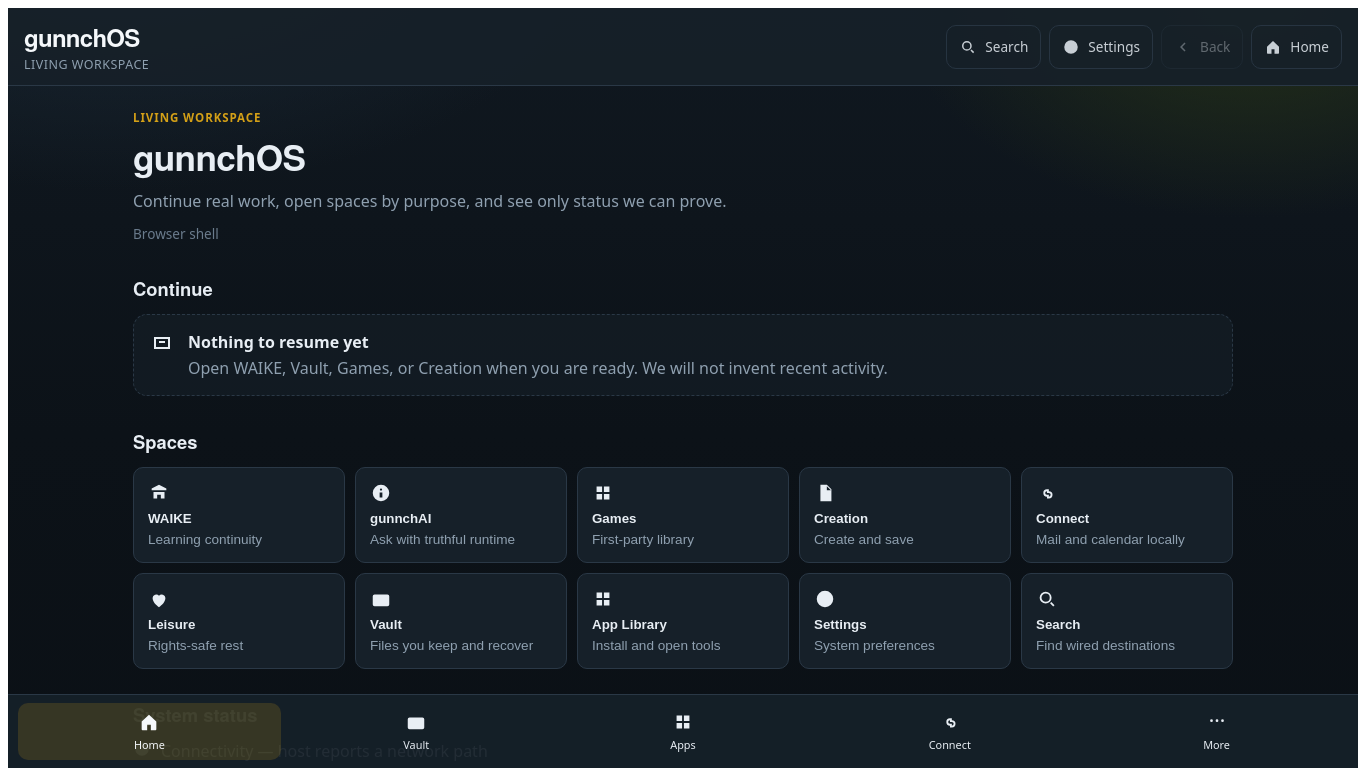
it: gunnch_shell production authority › opens More sheet for Assist and Care
The image size is (1366, 768).
Click the button "More" at coordinates (1217, 732), box x1=1085 y1=703 x2=1348 y2=760
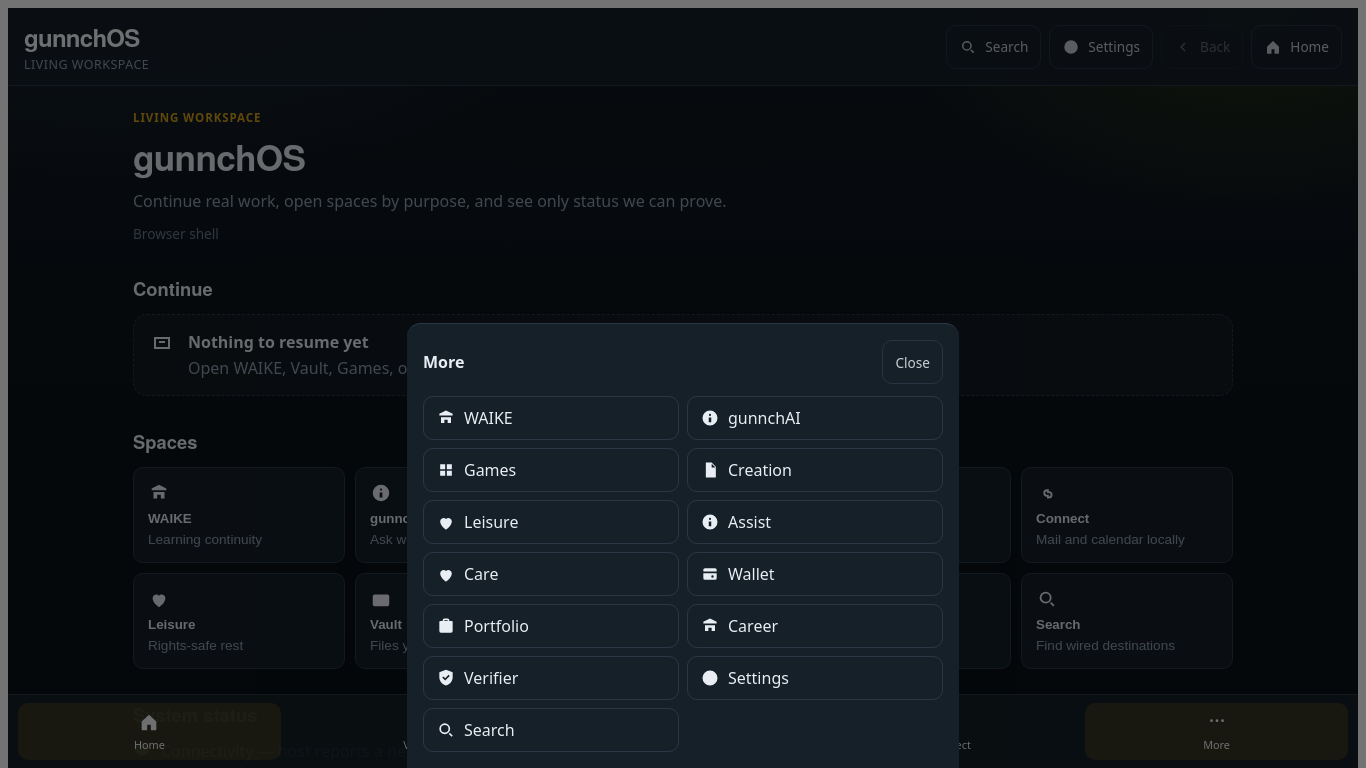
Click the button "Assist" at coordinates (815, 522), box x1=687 y1=500 x2=943 y2=544
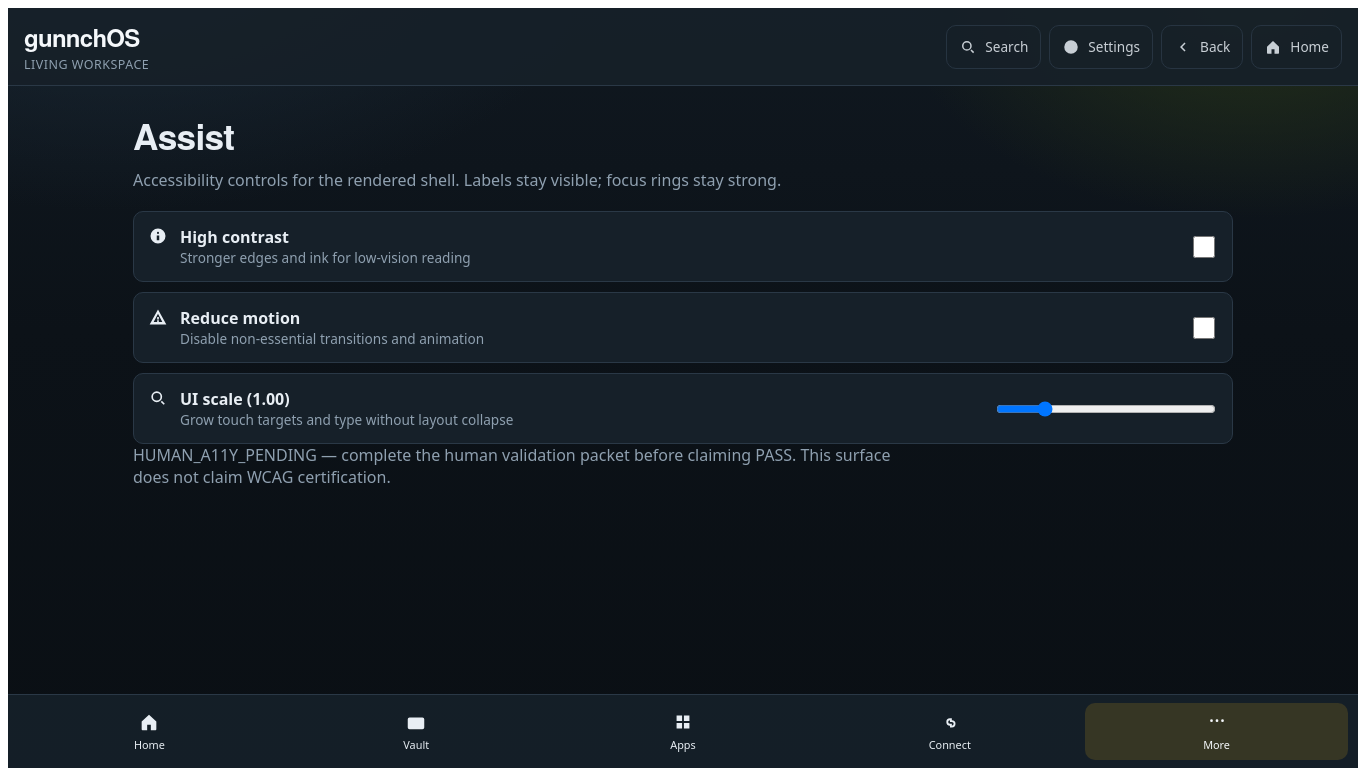
Expected: the heading "Assist" is shown, x1=133 y1=110 x2=234 y2=161
Expected: the checkbox labelled "High contrast Stronger edges and ink for low-vision reading" is shown, x1=1193 y1=236 x2=1215 y2=258
Expected: the checkbox labelled "Reduce motion" is shown, x1=1193 y1=316 x2=1215 y2=338
